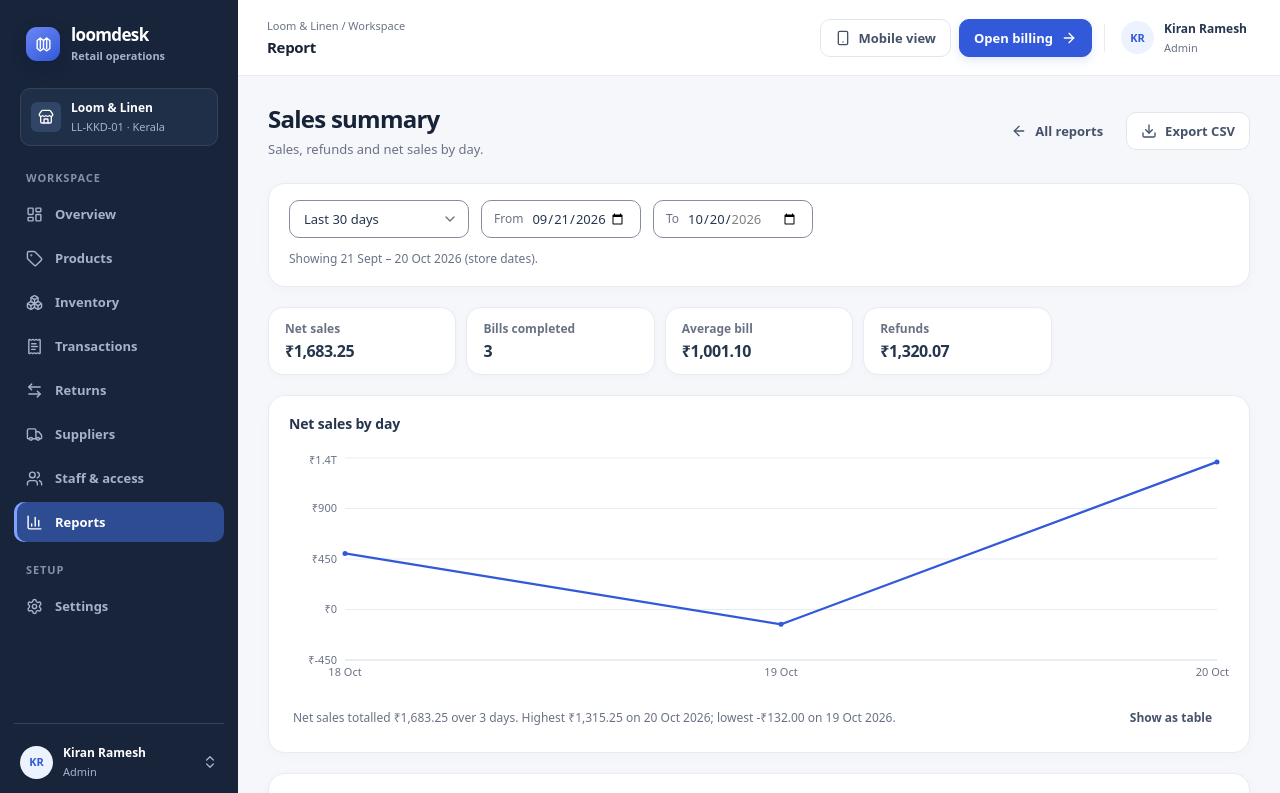
it: reports › puts the chosen dates in the URL, the request and the export
Check: the heading "Sales summary" is shown, box [268, 102, 440, 135]
Click the dropdown named "Dates".
click(379, 219)  # box [289, 200, 469, 238]
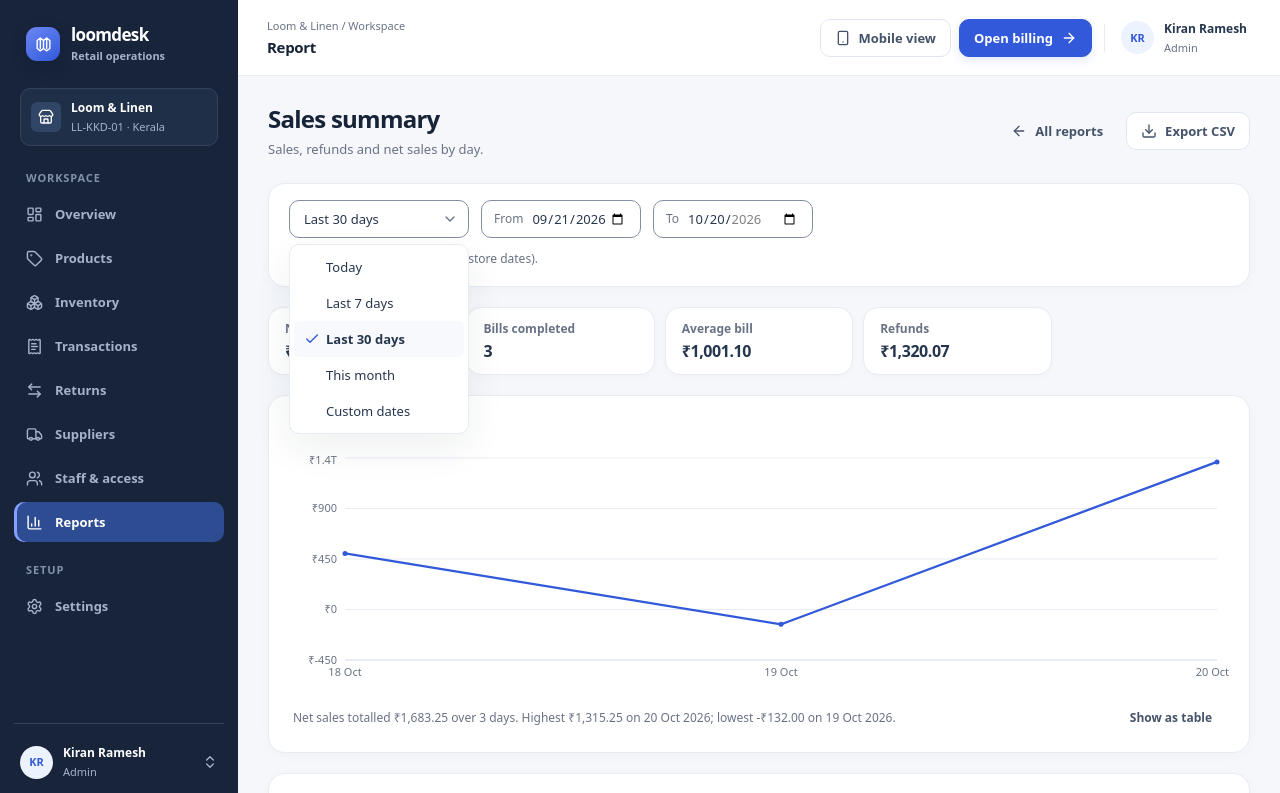
Click the option "Last 7 days".
click(360, 303)  # box [326, 294, 393, 312]
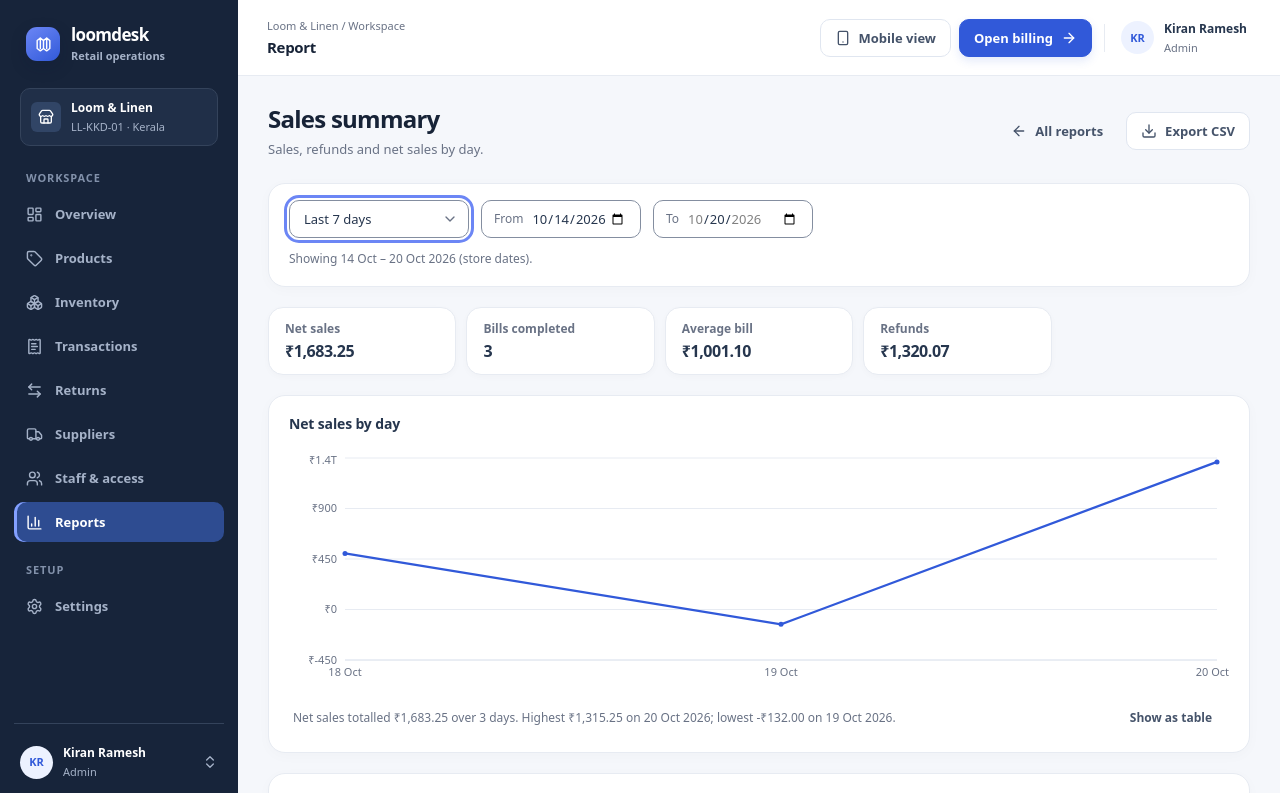
Check: the text "Showing 14 Oct – 20 Oct 2026 (store dates)." is shown, box [289, 250, 532, 267]
